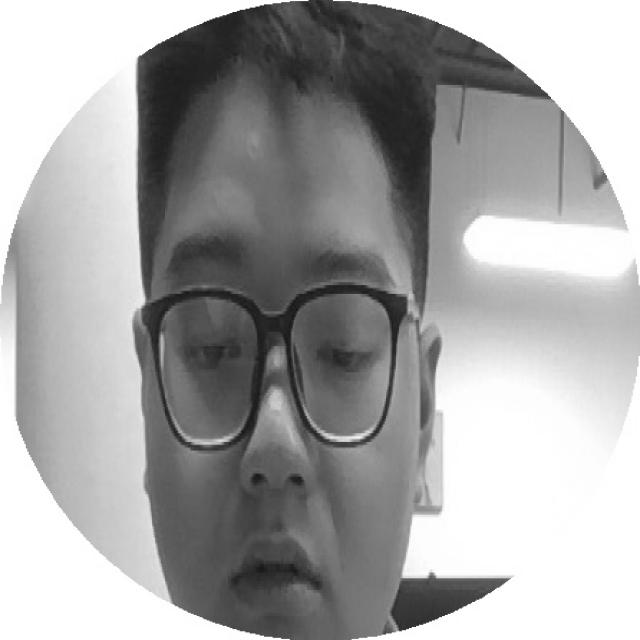real: (140, 87, 422, 640), (143, 277, 405, 402)
